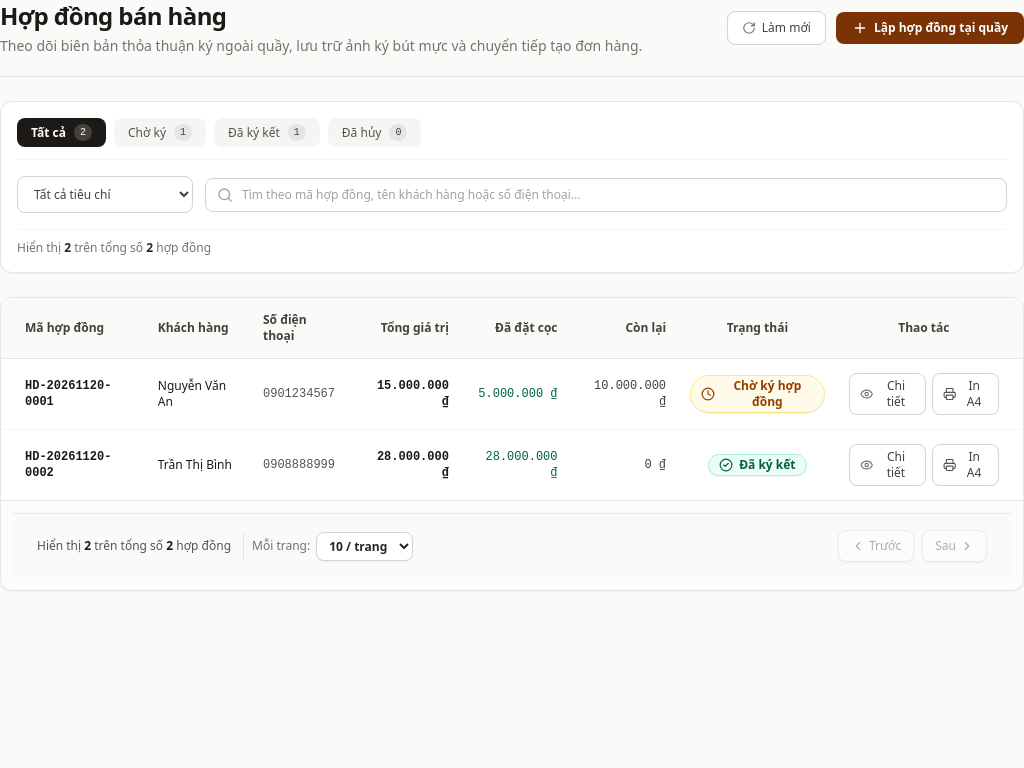
Test: ContractsPage Component › opens detail modal on clicking Chi tiết
Expected: the text "HD-20261120-0001" is shown, [1,359,146,430]
Click the button "Chi tiết" in the row of "HD-20261120-0001". click: (887, 394)
box: [849,373,926,415]
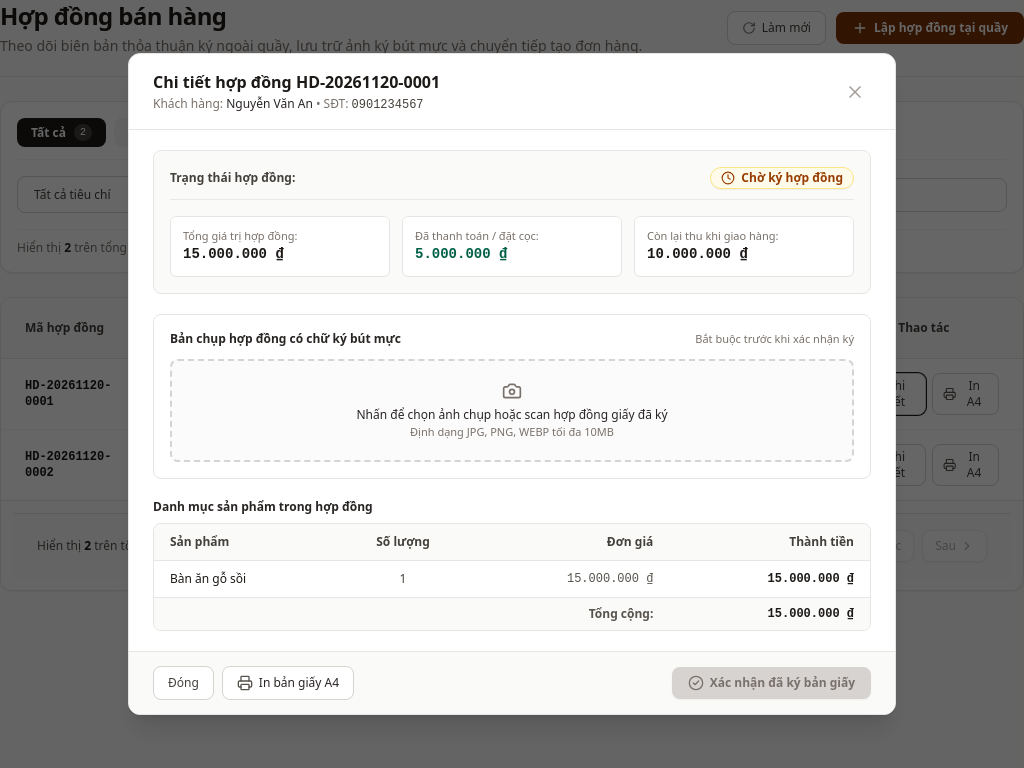
Result: the heading "Chi tiết hợp đồng HD-20261120-0001" is shown at [153,70,440,94]
Result: the text "Bàn ăn gỗ sồi" is shown at [154,560,337,597]
Result: the button "Xác nhận đã ký bản giấy" is shown at [672,667,871,699]
